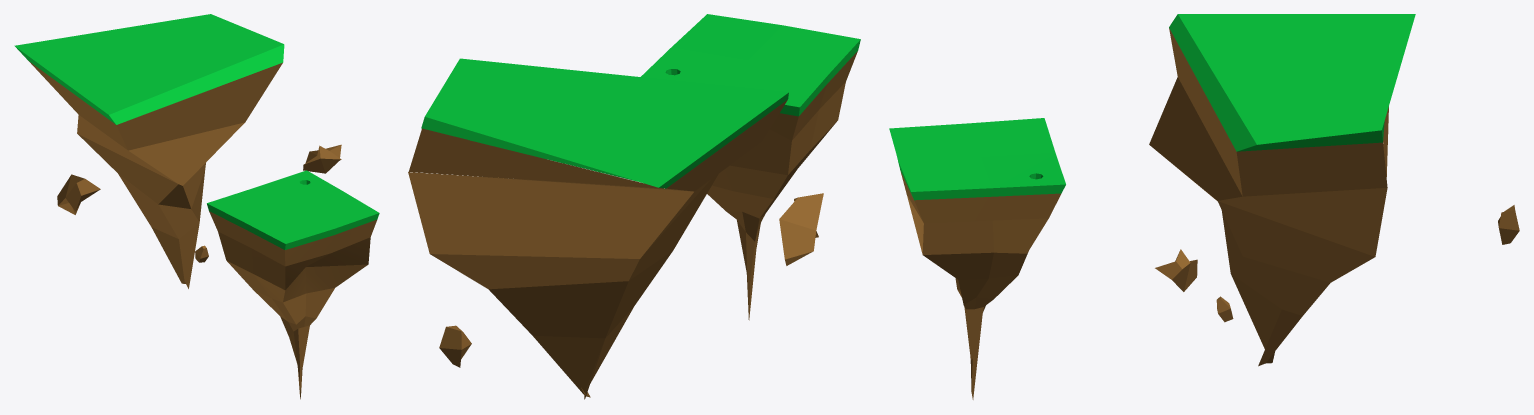
The model's file is FloatingIsland.glb.
3 views of the same model, side by side, from view 1: azimuth 30°, elevation 25°; view 2: azimuth 150°, elevation 25°; view 3: azimuth 270°, elevation 25° (orthographic). The views are drawn at different scales.
Parts seen in each view (by area): view 1: Cube; view 2: Cube; view 3: Cube.
Boxes of the visible parts, bbox=[...] form: Cube: bbox=[14, 14, 379, 399]; Cube: bbox=[408, 14, 860, 399]; Cube: bbox=[889, 14, 1519, 399].
Size of the model in its own units: 2.47 by 2.22 by 3.98.
